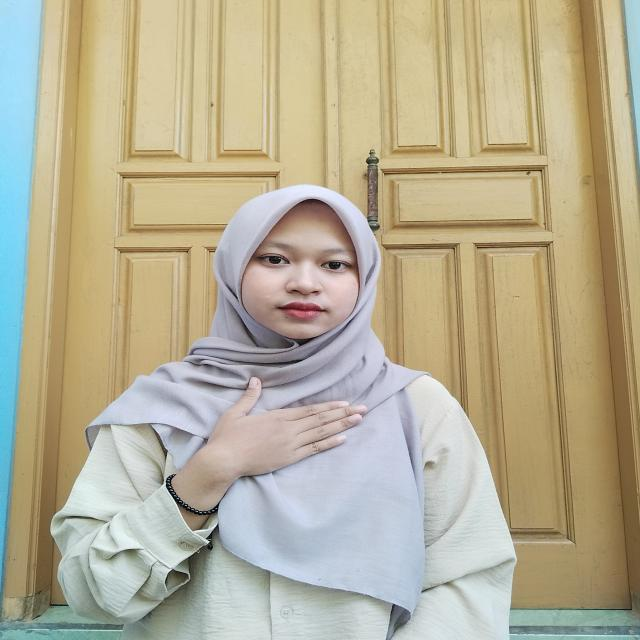tolong: (168, 372, 373, 502)
